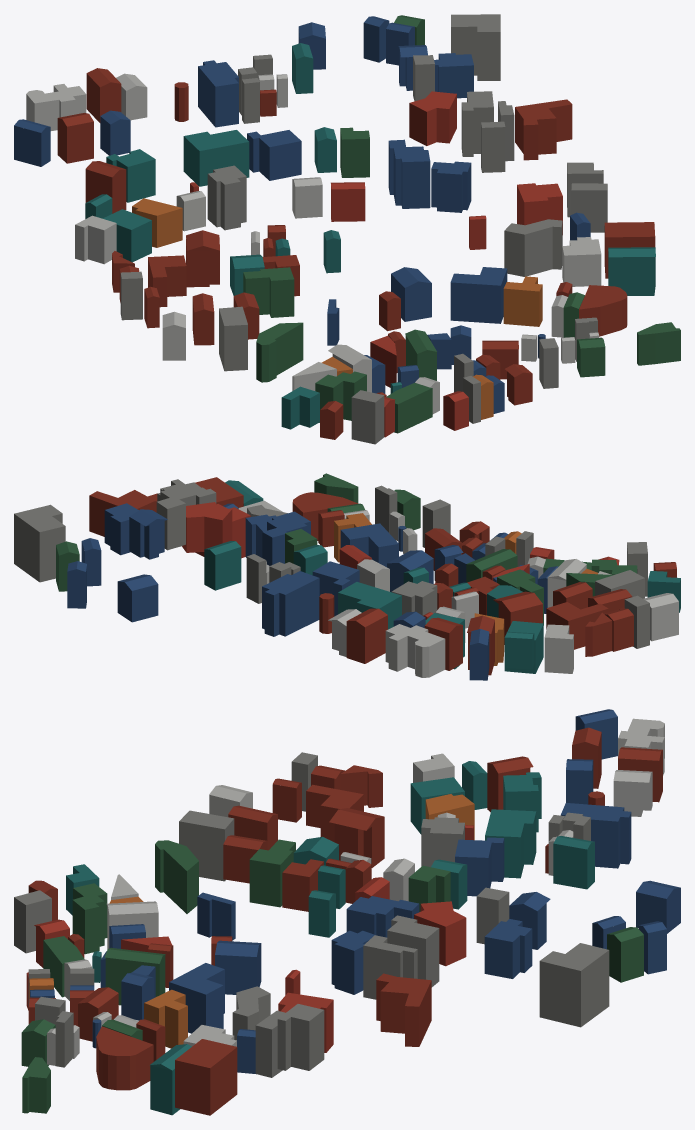
The model's file is near-17-109438-59476.d0a0677d.glb.
3 renders of one model, top to bottom at view 1: azimuth 30°, elevation 25°; view 2: azimuth 150°, elevation 25°; view 3: azimuth 270°, elevation 25°, orthographic. The views are drawn at different scales.
Size of the model in its own units: 301 by 107 by 302.
